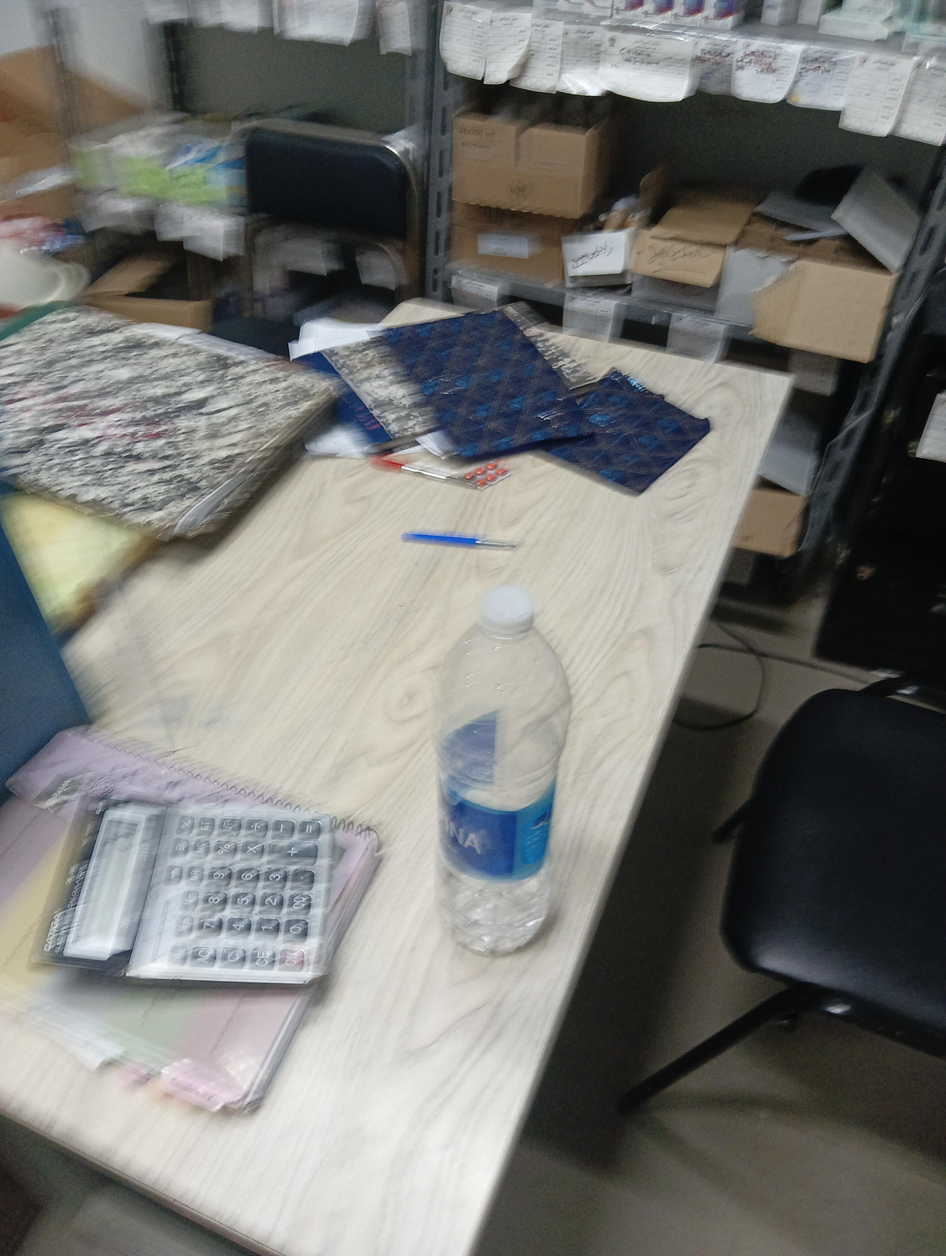Bottle: (436, 586, 570, 953)
